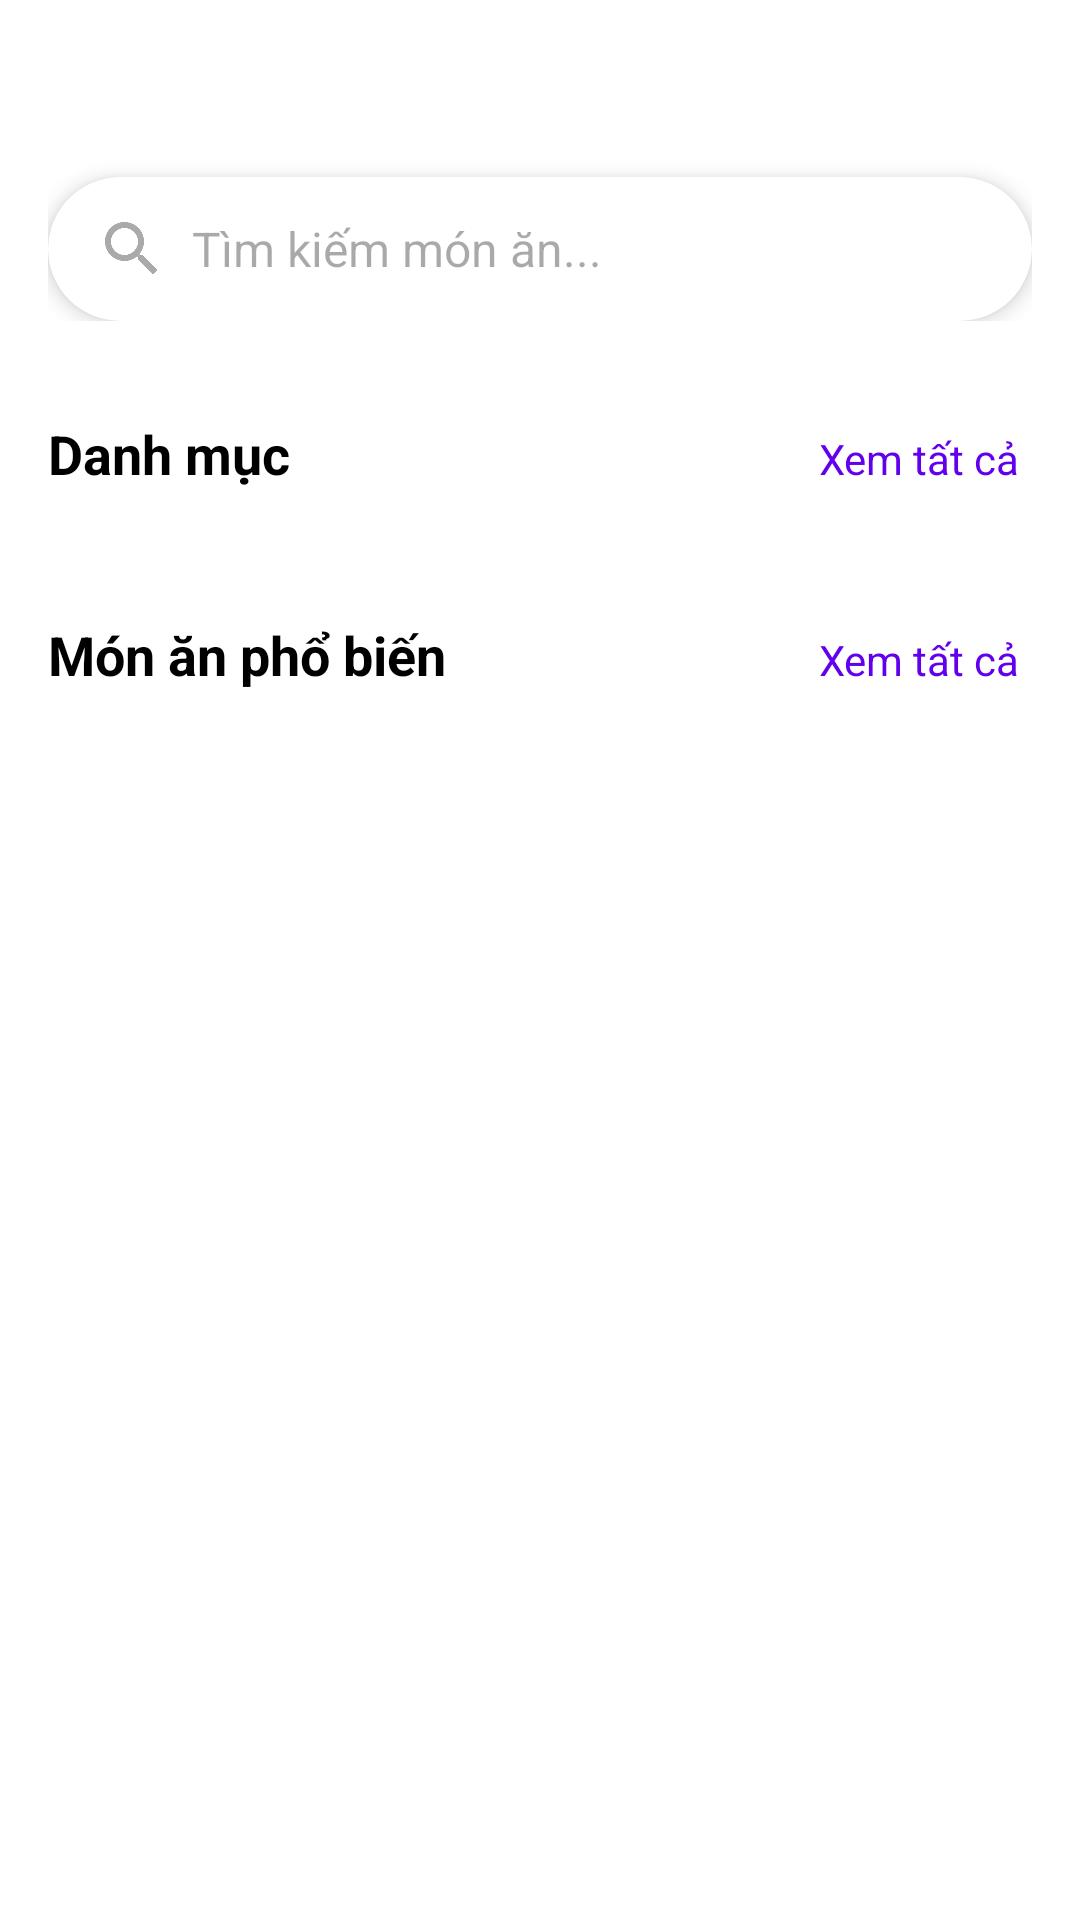

Where to tap for icons on this 1080×1920 app screen, as (x=x, y=y):
search: (x=131, y=248)
